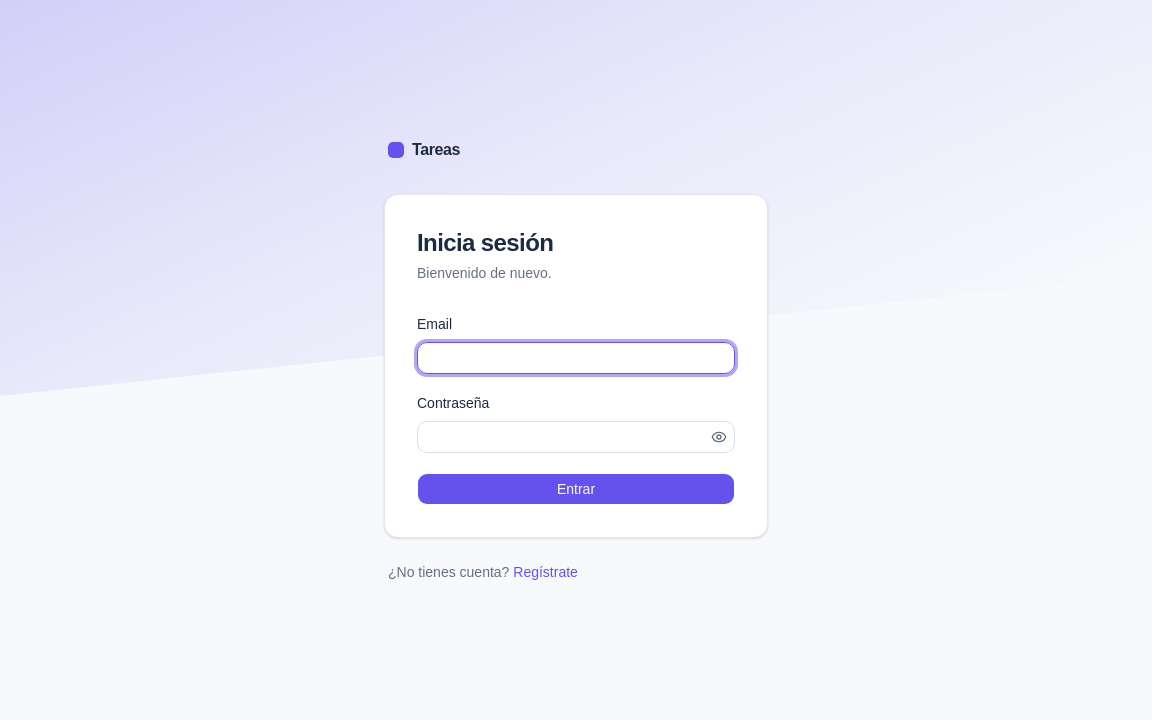
Test case: LoginPage › muestra el error del servidor
In the field labelled "Email": (576,358) [417,342,735,374], type "ana@example.com"
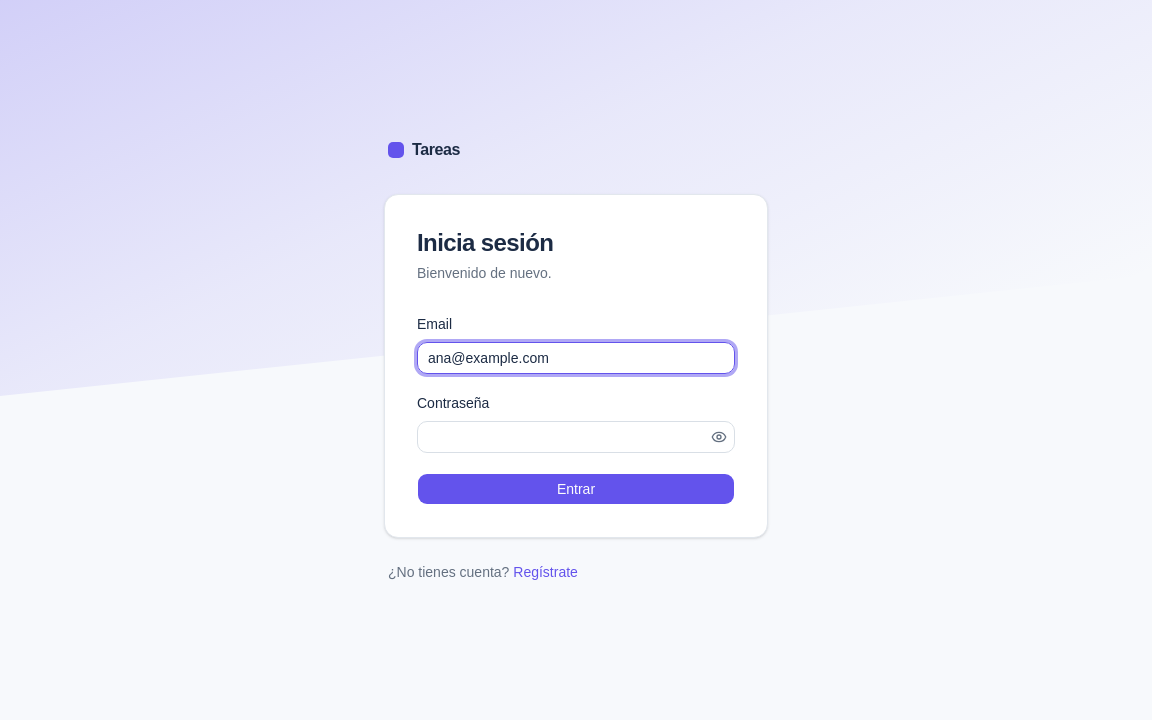
In the password field labelled "Contraseña": (576,437) [417,421,735,453], type "mala"
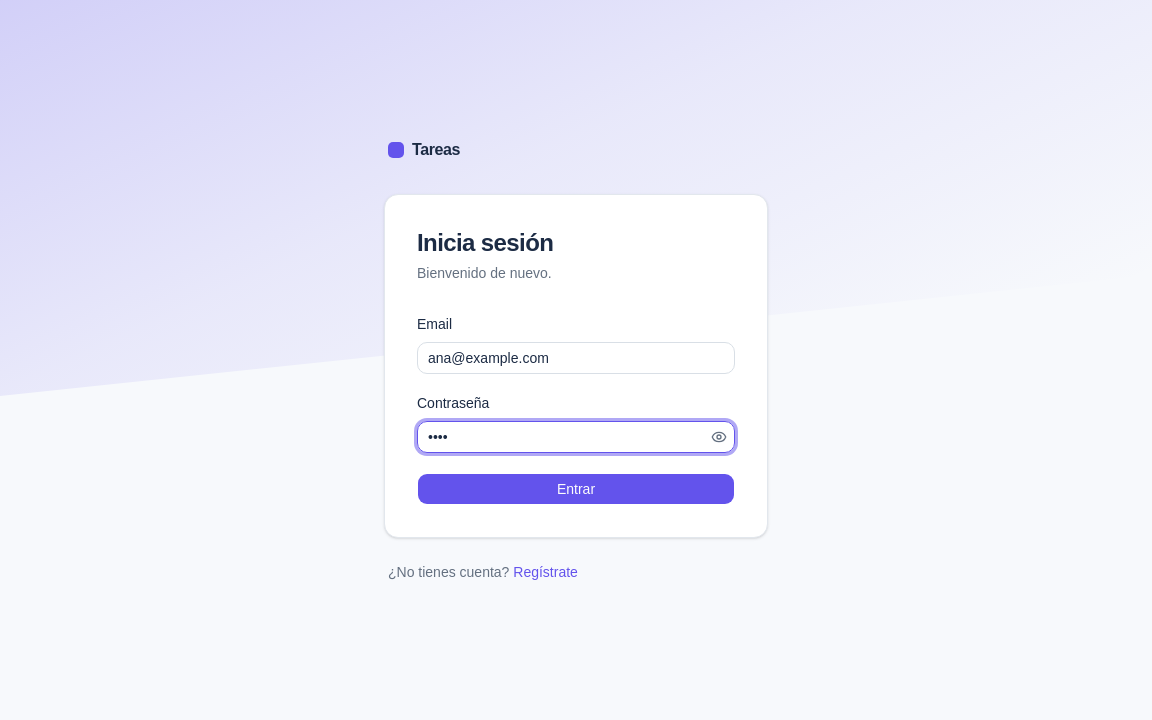
Click the button "Entrar": (576,489) [417,473,735,505]
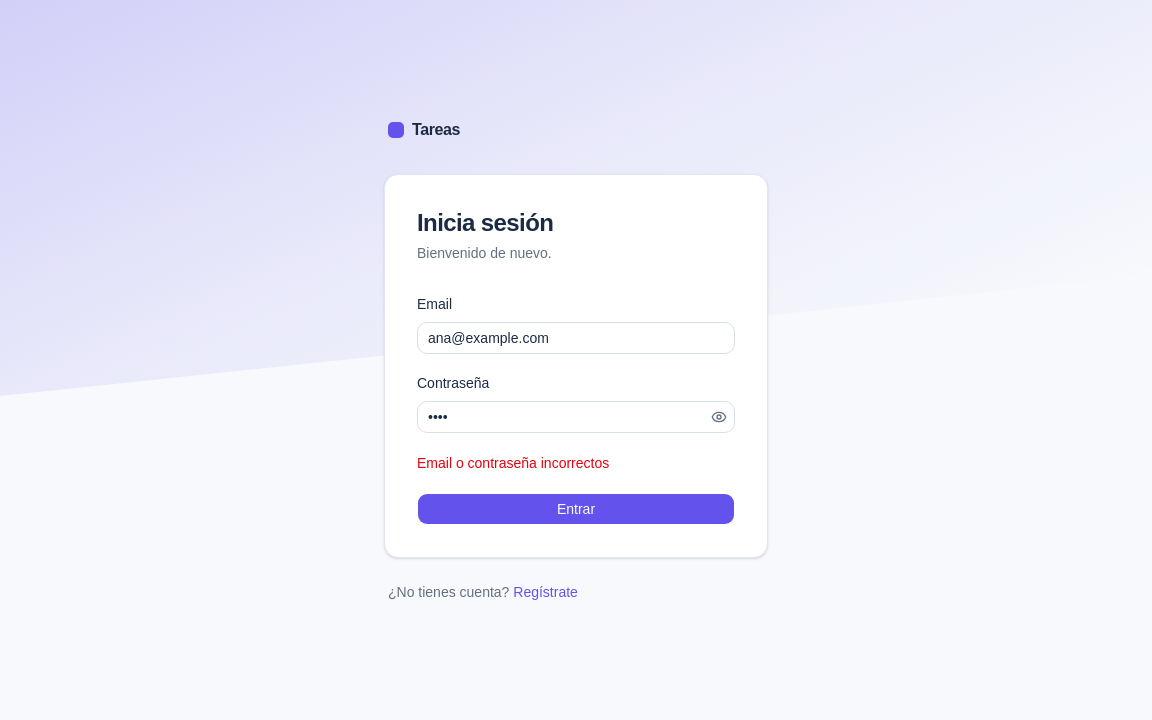
Result: the message reads "Email o contraseña incorrectos" at [417,455,609,471]
